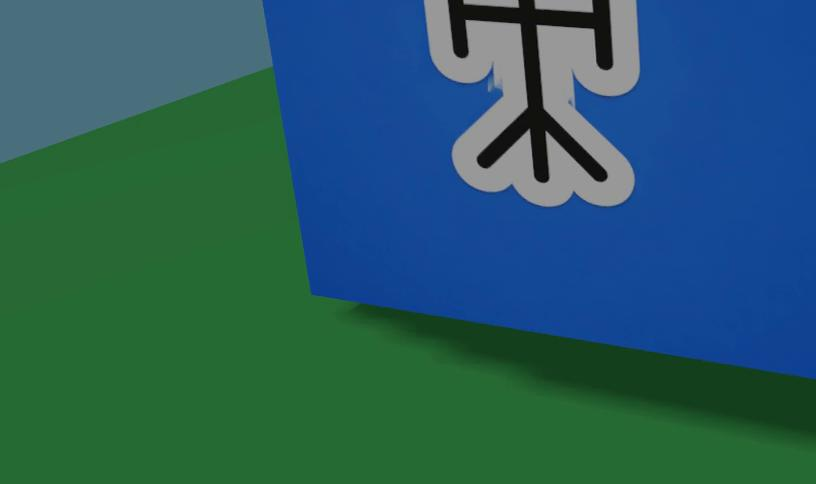KFS_REAL: (262, 0, 816, 378), (424, 0, 640, 206)
